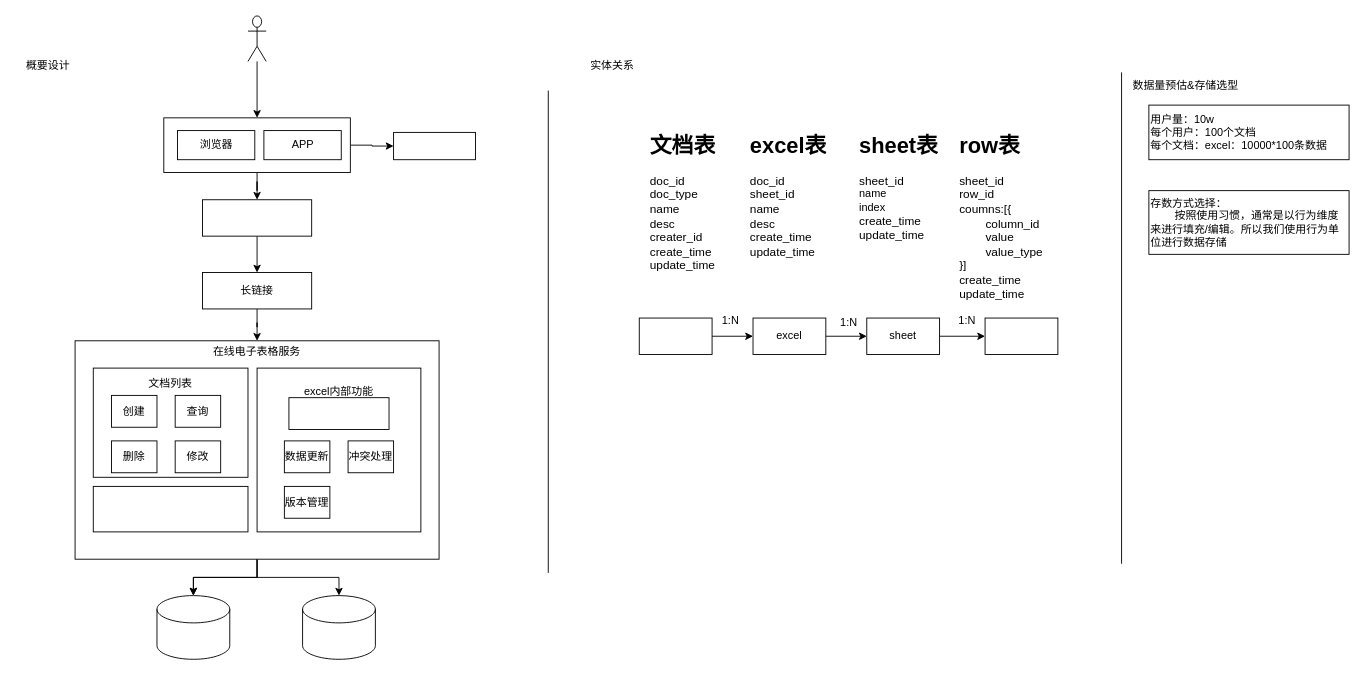
Image size: 1365x675. Some labels were removed from this diagram. Each missing label, with the centre of its shape:
"Actor" belongs at [256,38].
"CDN" belongs at [434,145].
"row" belongs at [1021,335].
"数据库" belongs at [193,627].
"文档" belongs at [675,335].
"权限管理" belongs at [170,508].
"查询（筛选、排序）" belongs at [338,413].
"缓存" belongs at [338,627].
"负载均衡" belongs at [257,217].
